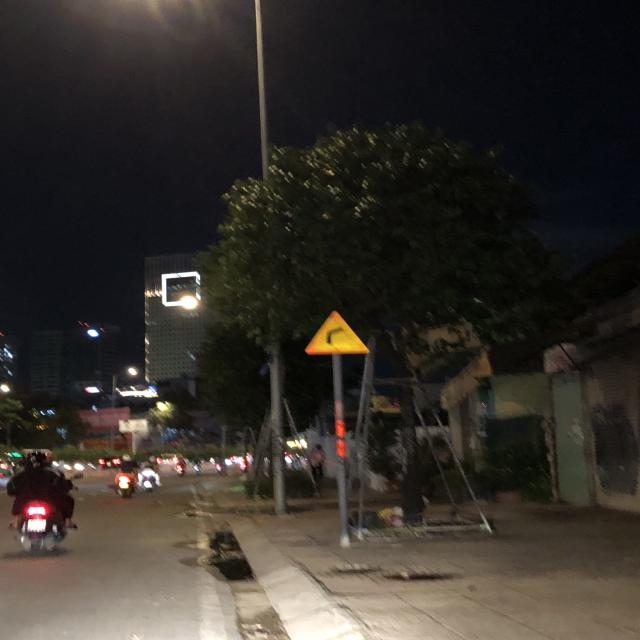Bien bao cho ngoat nguy hiem: (298, 302, 371, 357)
